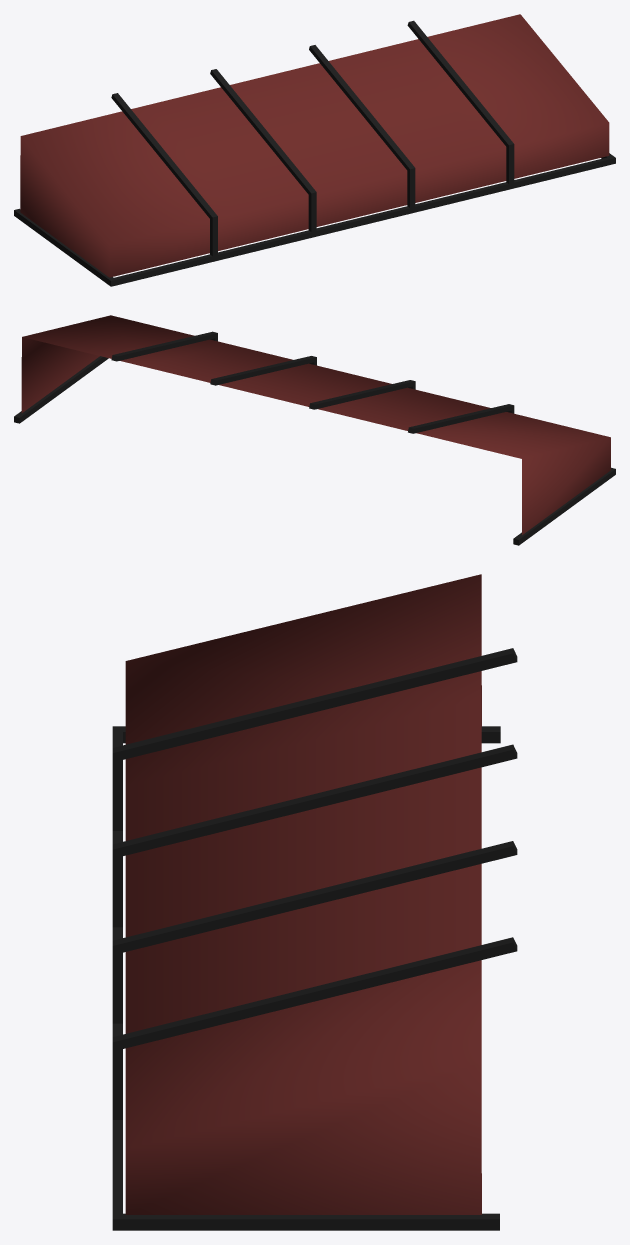
Rendered from rain_cover.gltf.
3 renders of one model, top to bottom at view 1: azimuth 30°, elevation 25°; view 2: azimuth 150°, elevation 25°; view 3: azimuth 270°, elevation 25°, orthographic. The views are drawn at different scales.
Visible parts, largest first — view 1: Cube.034; view 2: Cube.034; view 3: Cube.034.
Boxes of the visible parts, left/top/right/bottom form: Cube.034: left=14, top=14, right=615, bottom=286; Cube.034: left=14, top=315, right=615, bottom=545; Cube.034: left=112, top=574, right=517, bottom=1230.
Size of the model in its own units: 5.94 by 1.06 by 2.06.
